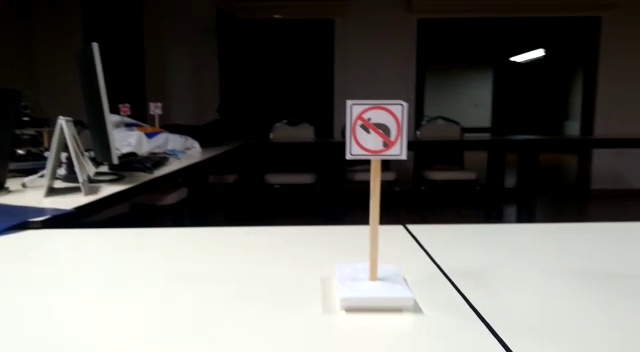sola_donulmez: (349, 101, 405, 157)
